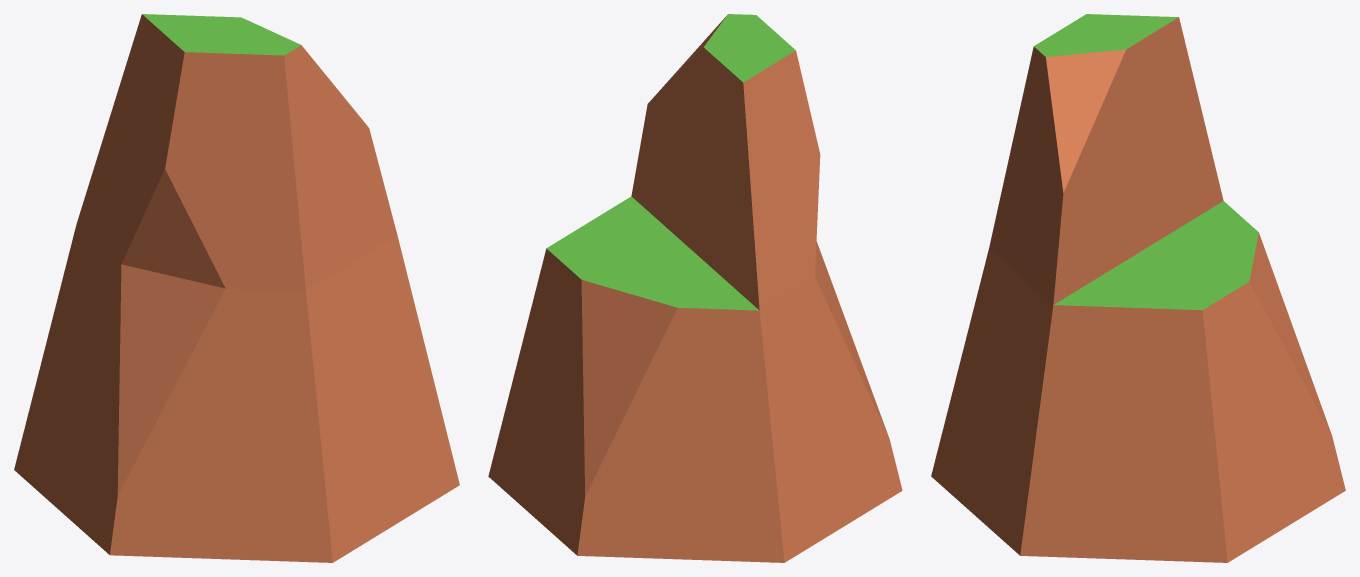
The model's file is rock_tallJ.glb.
The picture shows the model from 3 angles, left to right: view 1: azimuth 30°, elevation 25°; view 2: azimuth 150°, elevation 25°; view 3: azimuth 270°, elevation 25°; orthographic projection. The views are drawn at different scales.
Parts seen in each view (by area): view 1: rock_tallJ; view 2: rock_tallJ; view 3: rock_tallJ.
Boxes of the visible parts, left/top/right/bottom form: rock_tallJ: left=14, top=14, right=459, bottom=562; rock_tallJ: left=488, top=14, right=902, bottom=562; rock_tallJ: left=931, top=14, right=1345, bottom=562.
Bounding box in the file's own units: 0.4879 × 0.62 × 0.5382.
